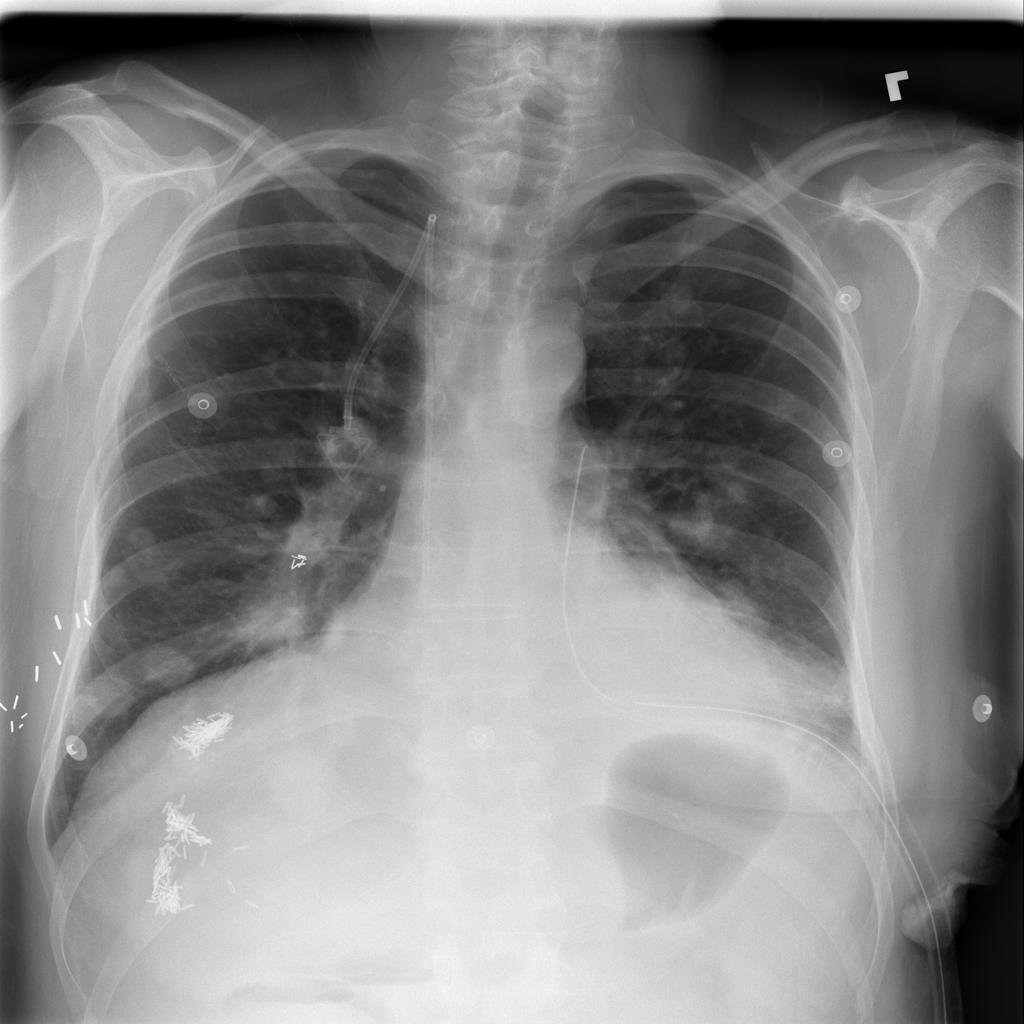nodule: (658, 456, 772, 566), (252, 731, 362, 840), (124, 635, 212, 698), (68, 665, 144, 734), (746, 371, 820, 441), (651, 275, 706, 323), (232, 484, 289, 529), (269, 252, 326, 296), (117, 510, 166, 560), (102, 559, 134, 597)
